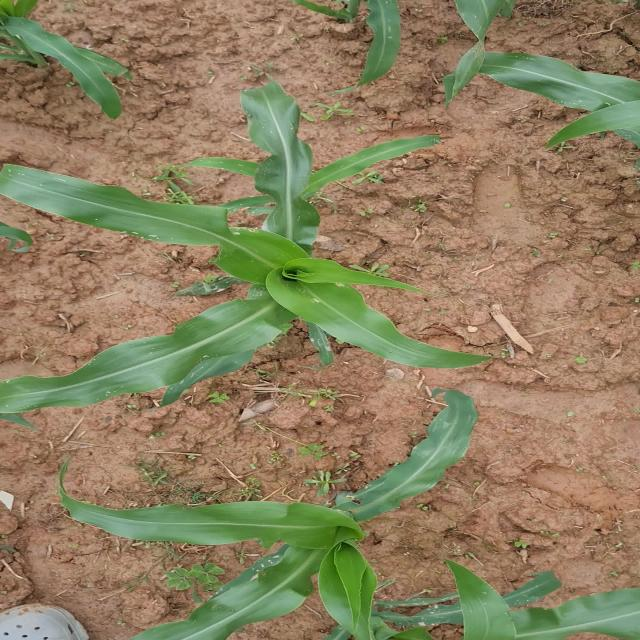maize: (0, 125, 444, 390), (119, 432, 459, 623), (311, 0, 640, 132), (441, 555, 640, 640), (0, 2, 142, 98)
